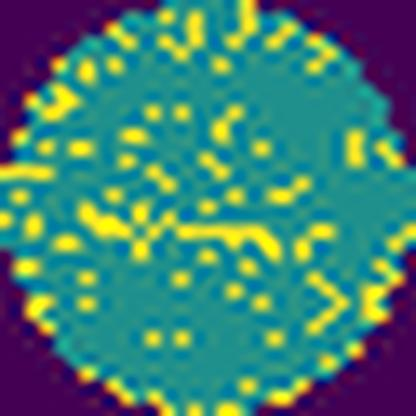Scratch: (74, 194, 287, 266)
